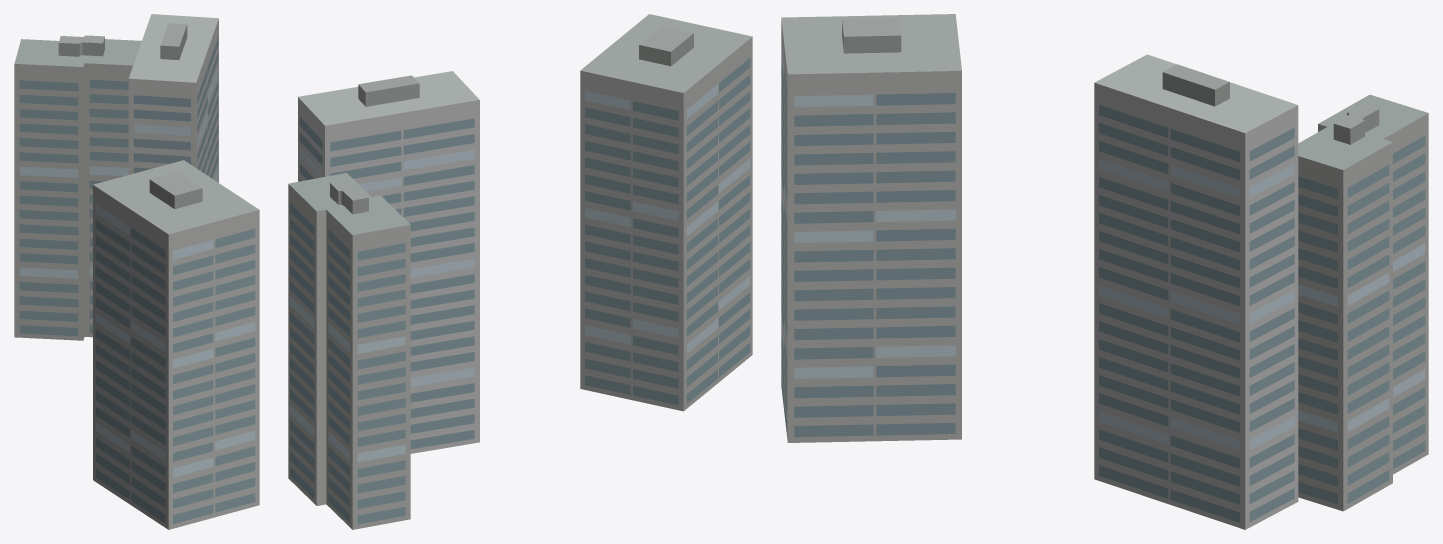
File: apt-a10025633.glb
3 renders of one model, left to right at view 1: azimuth 30°, elevation 25°; view 2: azimuth 150°, elevation 25°; view 3: azimuth 270°, elevation 25°, orthographic. The views are drawn at different scales.
Parts seen in each view (by area): view 1: apt-a10025633; view 2: apt-a10025633; view 3: apt-a10025633.
Boxes of the visible parts, bbox=[...] form: apt-a10025633: bbox=[14, 14, 259, 529]; apt-a10025633: bbox=[288, 14, 752, 529]; apt-a10025633: bbox=[781, 14, 1428, 529].
Bounding box in the file's own units: 45.1 × 59 × 83.73.
